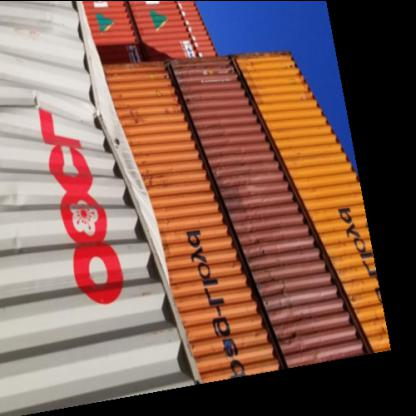Damage: (1, 78, 143, 264)
